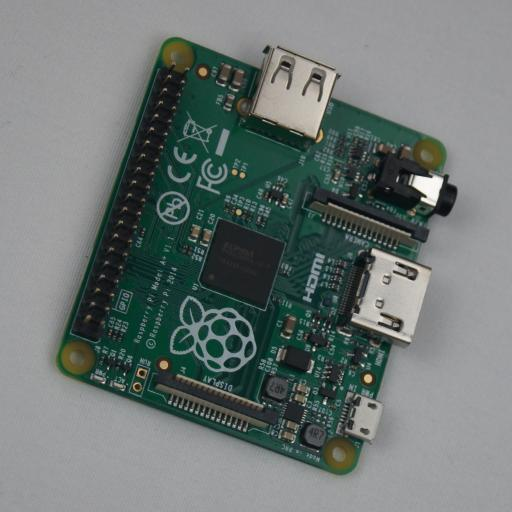Raspberry Pi A-: (56, 37, 457, 475)
